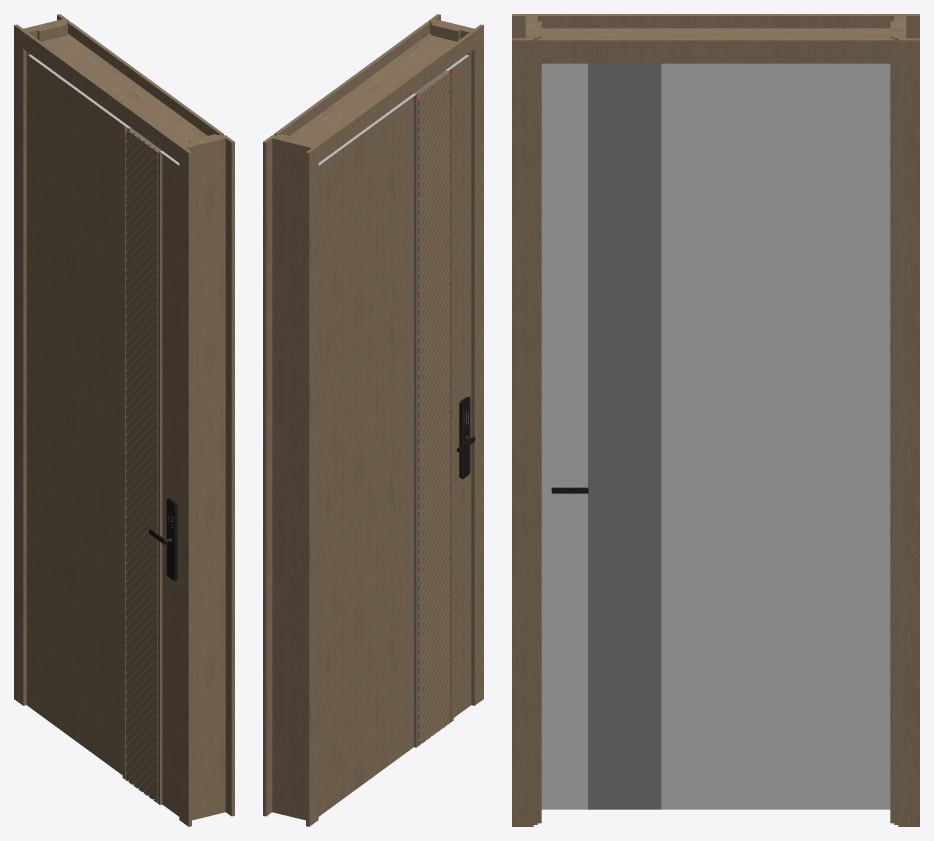
Rendered from door.gltf.
3 renders of one model, left to right at view 1: azimuth 30°, elevation 25°; view 2: azimuth 150°, elevation 25°; view 3: azimuth 270°, elevation 25°, orthographic. The views are drawn at different scales.
Visible parts, largest first — view 1: root; view 2: root; view 3: root.
Part boxes in pixels (left/top/right/bottom): root: left=14, top=14, right=234, bottom=826; root: left=263, top=14, right=483, bottom=826; root: left=512, top=14, right=919, bottom=826.
Bounding box in the file's own units: 0.217 × 2.6 × 1.22.
8 materials, 5 textured.
